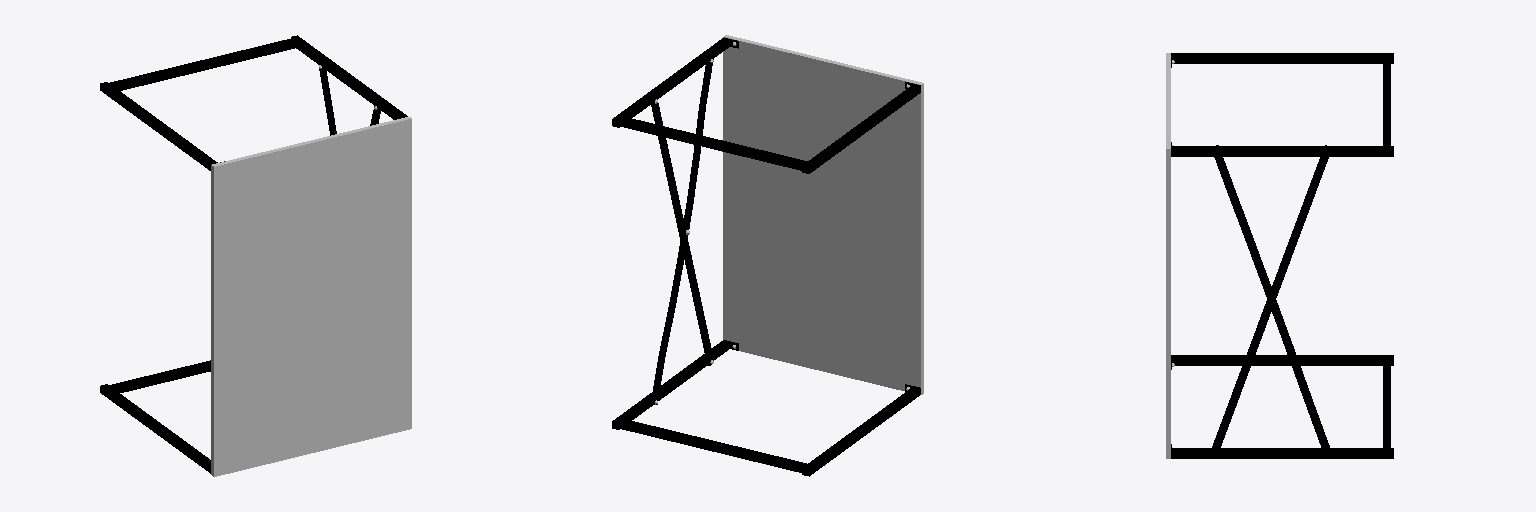
Rendered from table.obj.
The picture shows the model from 3 angles: view 1: azimuth 30°, elevation 25°; view 2: azimuth 150°, elevation 25°; view 3: azimuth 270°, elevation 25°; orthographic projection.
Visible parts, largest first — view 1: Wood, metal; view 2: Wood, metal; view 3: metal, Wood.
Part boxes in pixels (x1,y1,x2,y2): Wood: (211,117,411,476); metal: (100,35,407,473); Wood: (723,35,923,394); metal: (612,38,920,476); metal: (1171,53,1393,458); Wood: (1166,53,1170,458).
Size of the model in its own units: 0.6003 by 0.8998 by 0.6012.